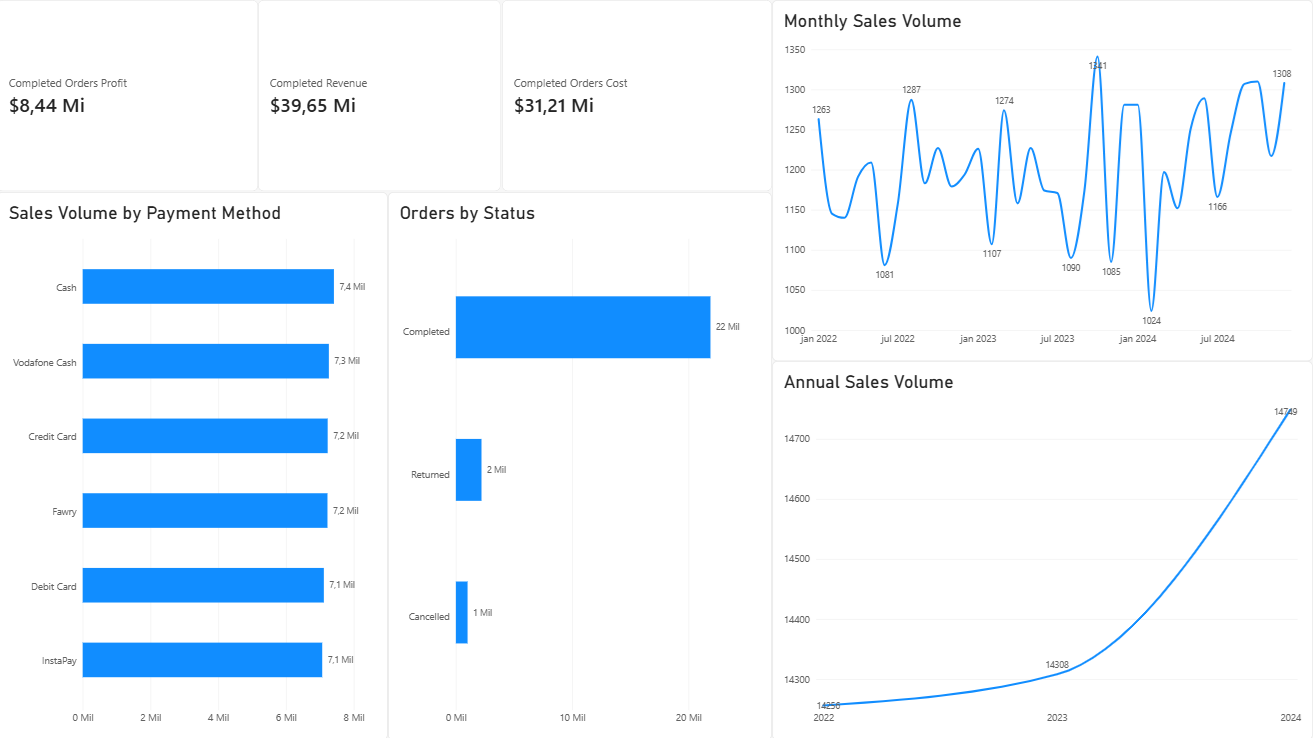

What the dashboard file says about the page in this screenshot:
{"tool":"powerbi","page":{"name":"Sales Overview","canvas":[1920,1080],"ordinal":0},"visuals":[{"type":"lineChart","title":"Monthly Sales Volume","fields":{"Category":["fact_orders.order_date.Variação.Hierarquia de datas.Ano","fact_orders.order_date.Variação.Hierarquia de datas.Mês"],"Y":["Sum(fact_order_details.quantity)"]},"box":[1130.7,0,789.3,526.7],"z":0},{"type":"lineChart","title":"Annual Sales Volume","fields":{"Category":["fact_orders.order_date.Variação.Hierarquia de datas.Ano","fact_orders.order_date.Variação.Hierarquia de datas.Trimestre","fact_orders.order_date.Variação.Hierarquia de datas.Mês","fact_orders.order_date.Variação.Hierarquia de datas.Dia"],"Y":["Sum(fact_order_details.quantity)"]},"box":[1130.7,526.7,789.3,552.9],"z":1000},{"type":"barChart","title":"Orders by Status","fields":{"Category":["fact_orders.order_status"],"Y":["CountNonNull(fact_order_details.order_id)"]},"box":[570.5,280.1,560.2,799.5],"z":2000},{"type":"barChart","title":"Sales Volume by Payment Method","fields":{"Category":["fact_orders.payment_method"],"Y":["Sum(fact_order_details.quantity)"]},"box":[0,280.1,570.5,799.5],"z":3000},{"type":"cardVisual","fields":{"Data":["fact_order_details.Custo Pedidos Concluídos"]},"box":[736.4,0,394,279.9],"z":4000},{"type":"cardVisual","fields":{"Data":["fact_order_details.Faturamento Concluído"]},"box":[381.5,0,354.9,279.9],"z":5000},{"type":"cardVisual","fields":{"Data":["fact_order_details.Lucro Pedidos Concluídos"]},"box":[0,0,381.5,279.9],"z":6000}]}

Visuals, with their boxes in screenshot pixels (x1, y1, x2, y2), scaled from the page's 1920x1080 canvas onto the 1313x738 screenshot:
"Monthly Sales Volume" lineChart: 773:0:1312:360
"Annual Sales Volume" lineChart: 773:360:1312:737
"Orders by Status" barChart: 390:191:773:737
"Sales Volume by Payment Method" barChart: 0:191:390:737
cardVisual - fact_order_details.Custo Pedidos Concluídos: 504:0:773:191
cardVisual - fact_order_details.Faturamento Concluído: 261:0:504:191
cardVisual - fact_order_details.Lucro Pedidos Concluídos: 0:0:261:191
